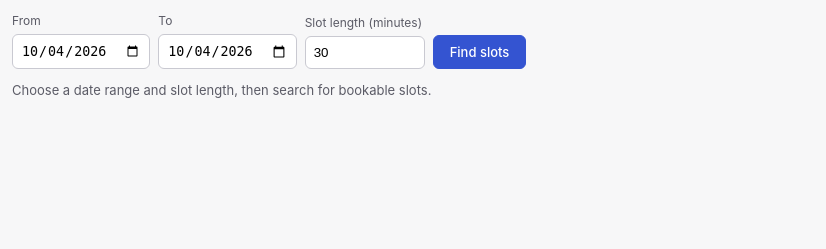
Test: AvailableSlotsPicker › shows an empty state when the backend returns no slots -- never invents any
This screenshot has width=826, height=249.
Click the button "Find slots". click: x=480, y=52
box: [433, 35, 526, 69]
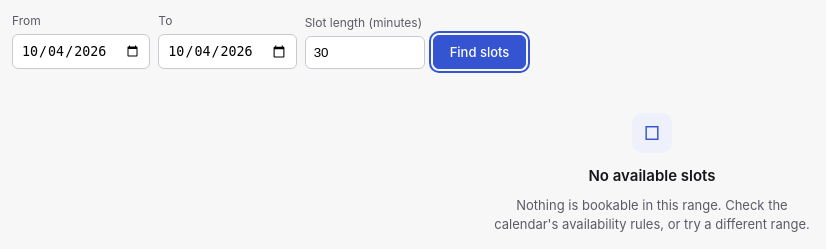
Expected: the text "No available slots" is shown, [588, 165, 716, 188]
